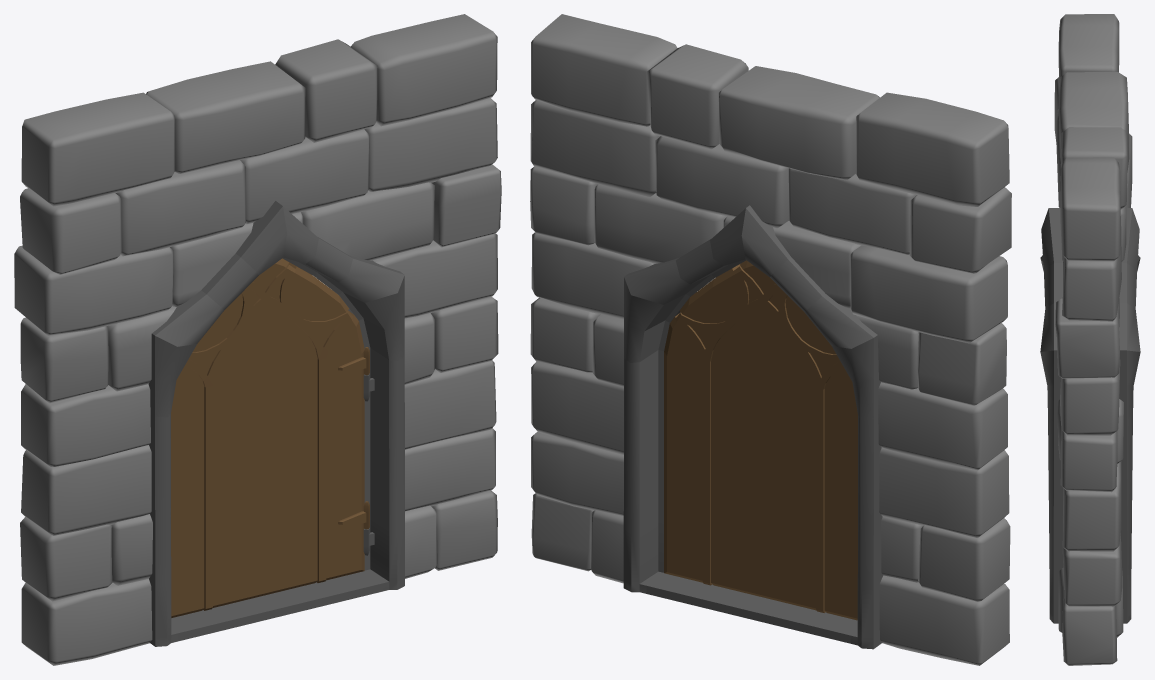
File: stonewall_door_small_v001.fbx
3 views of the same model, side by side, from view 1: azimuth 30°, elevation 25°; view 2: azimuth 150°, elevation 25°; view 3: azimuth 270°, elevation 25° (orthographic). The views are drawn at different scales.
Parts seen in each view (by area): view 1: stonewall_door_small1, door_detail1, door_frame1; view 2: stonewall_door_small1, door_detail1, door_frame1; view 3: stonewall_door_small1, door_frame1.
Boxes of the visible parts, box(x1,y1,x2,y2) form: stonewall_door_small1: box(14, 14, 501, 665); door_detail1: box(171, 258, 369, 617); door_frame1: box(148, 201, 404, 646); stonewall_door_small1: box(530, 14, 1011, 665); door_detail1: box(664, 260, 857, 620); door_frame1: box(623, 205, 882, 649); stonewall_door_small1: box(1054, 14, 1132, 665); door_frame1: box(1040, 208, 1140, 623).
Bounding box in the file's own units: 454 × 506 × 98.85.
